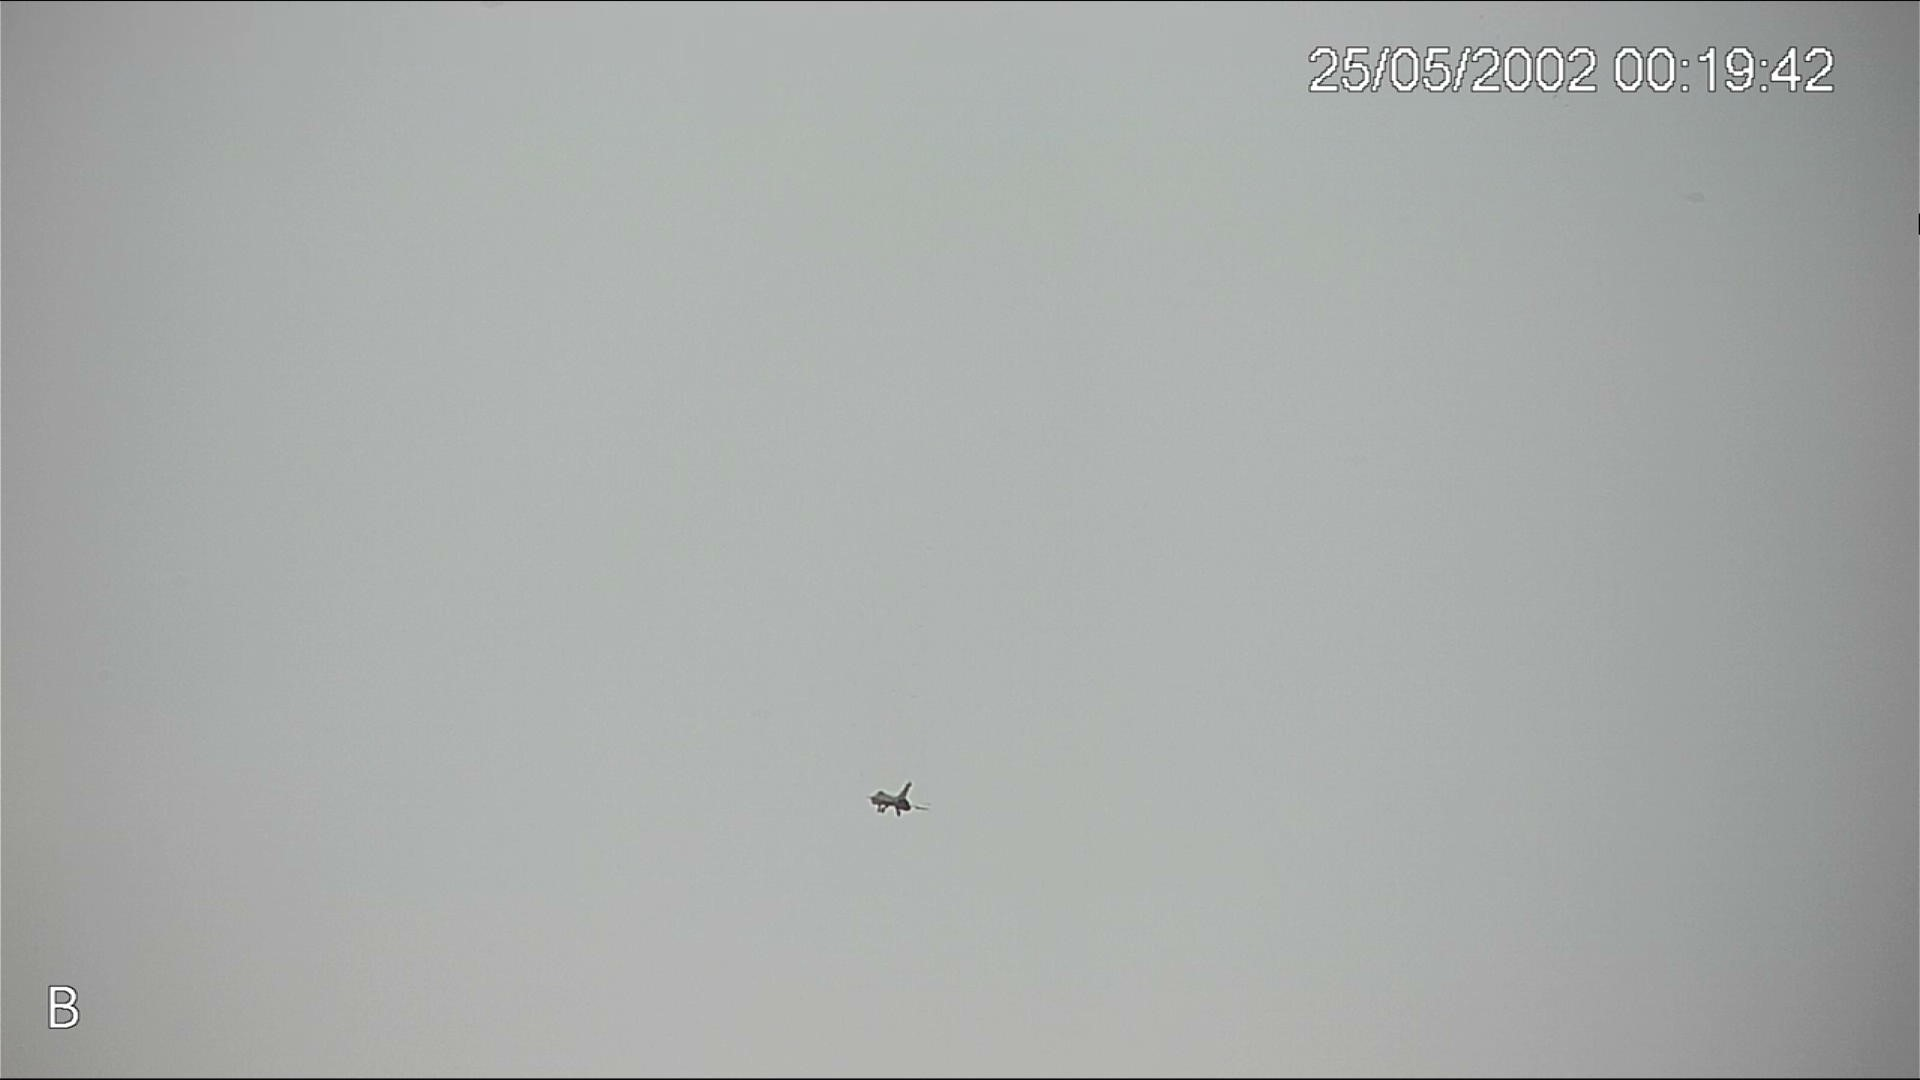SU_30: (864, 781, 920, 818)
